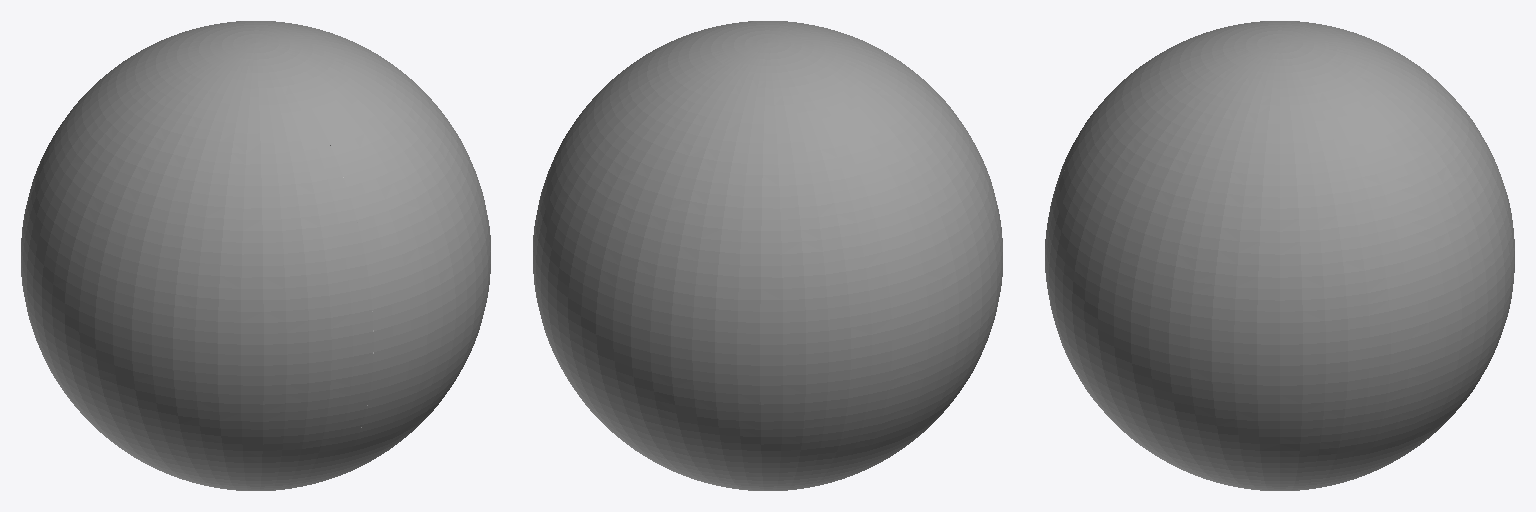
File: ball2.obj
3 views of the same model, side by side, from view 1: azimuth 30°, elevation 25°; view 2: azimuth 150°, elevation 25°; view 3: azimuth 270°, elevation 25° (orthographic).
Visible parts, largest first — view 1: Plane; view 2: Plane; view 3: Plane.
Boxes of the visible parts, x1,y1,x2,y2 form: Plane: [21, 21, 490, 490]; Plane: [533, 21, 1002, 490]; Plane: [1045, 21, 1514, 490].
Bounding box in the file's own units: 5.21 × 5.21 × 5.21.